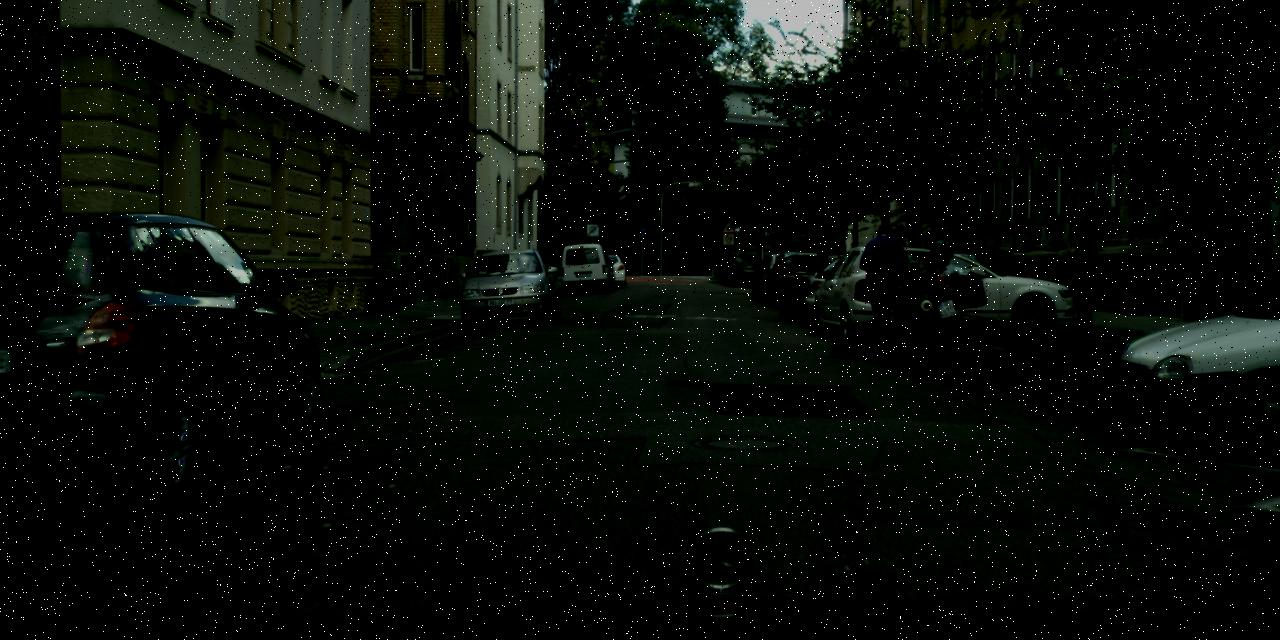ped: (854, 223, 910, 363)
